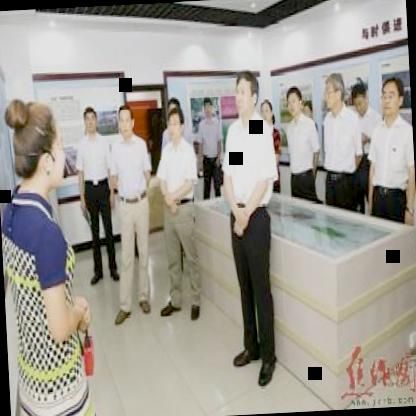head: (6, 96, 67, 196), (230, 67, 262, 120), (378, 72, 407, 118), (322, 70, 346, 113), (114, 101, 138, 144), (164, 98, 186, 141), (348, 76, 370, 116), (78, 101, 100, 138), (284, 82, 304, 119), (258, 94, 275, 129)
